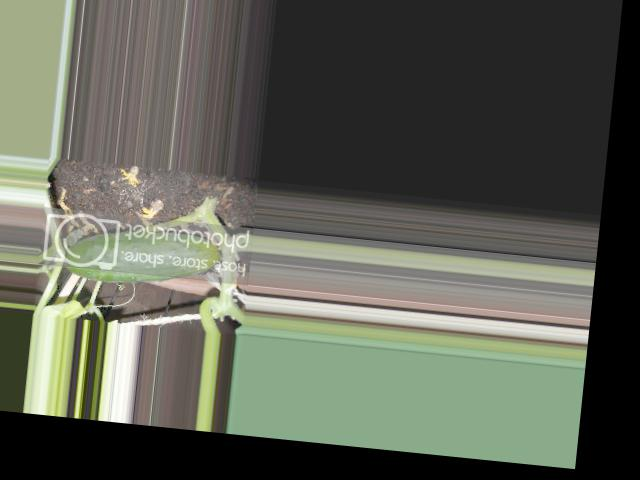cucumber: (64, 220, 220, 292)
